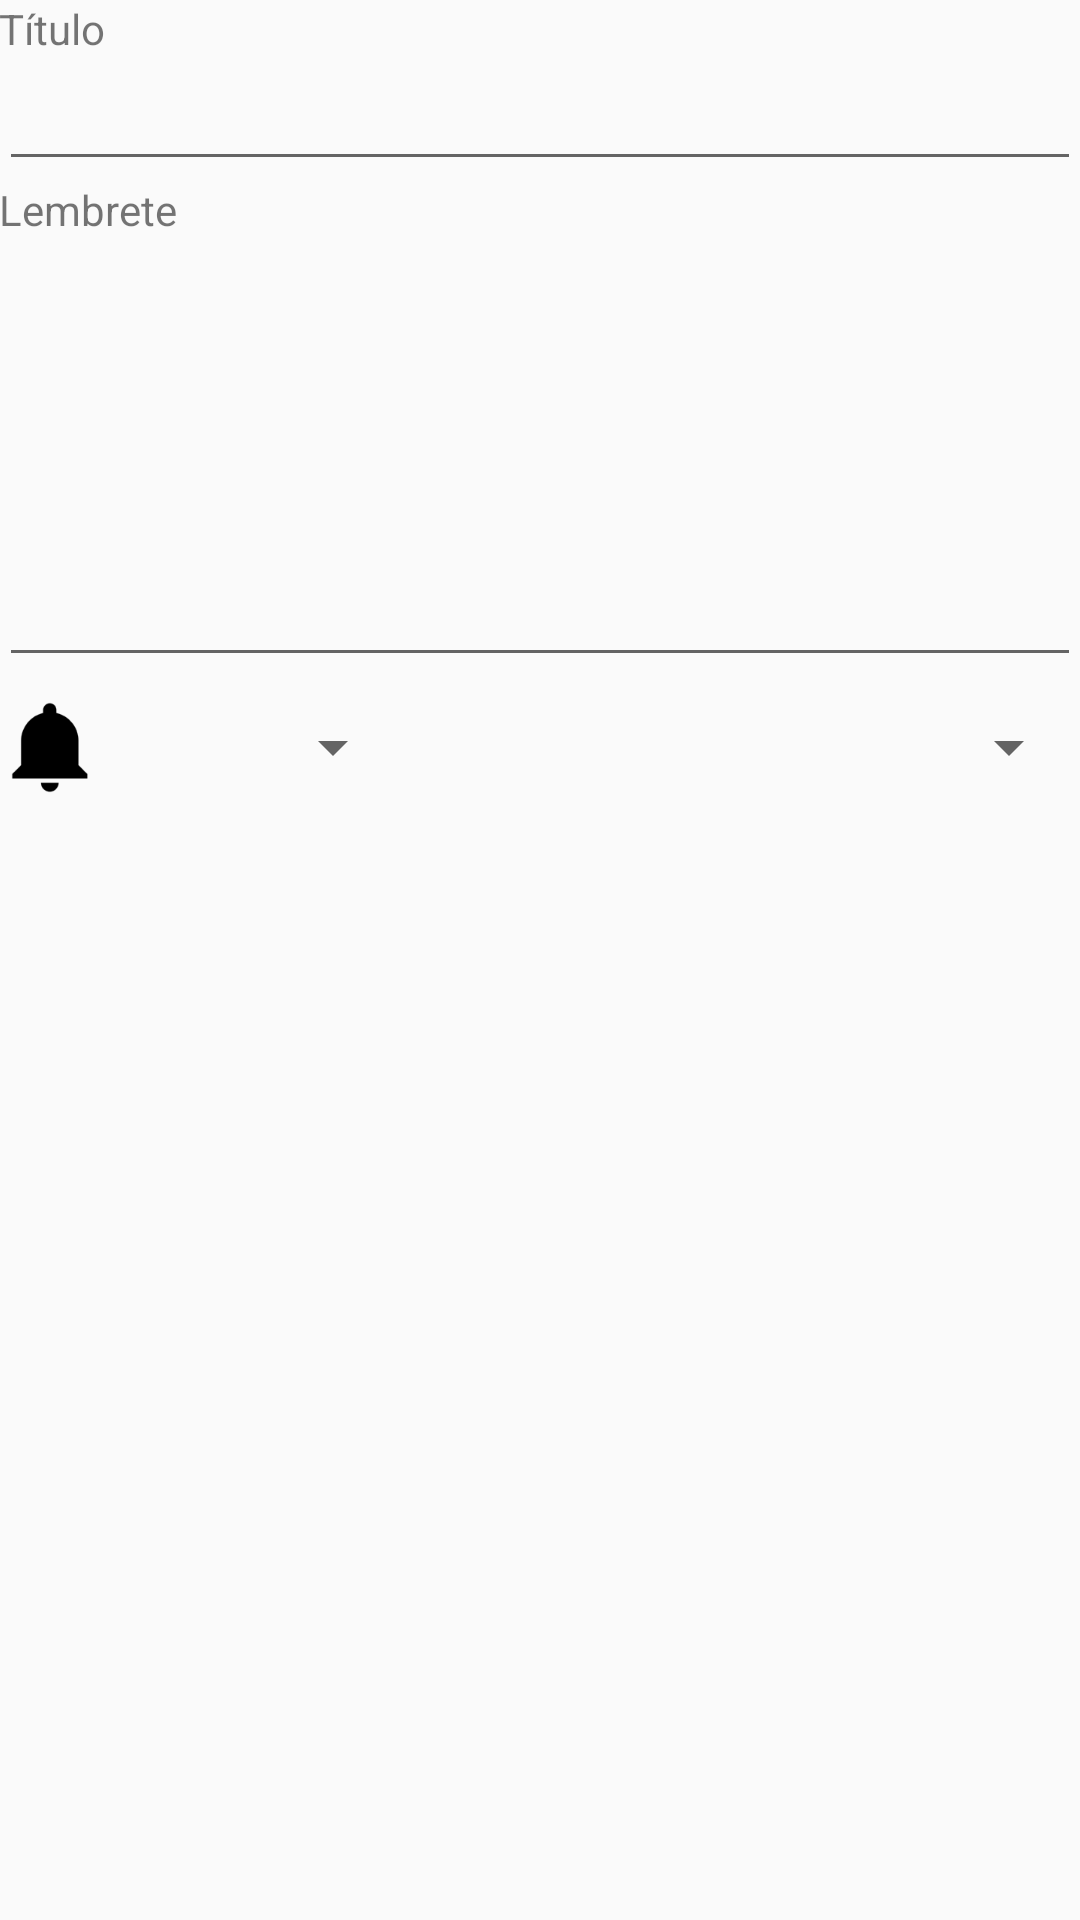

Locate icon controls on the screen. Image size 1080*1920, boxes as (x1, y1, x2, y2).
alarme: (12, 703, 88, 792)
